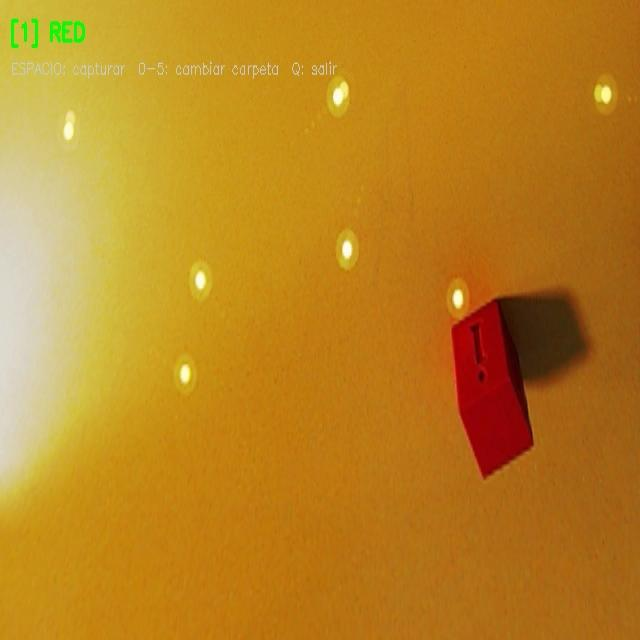red: (452, 300, 532, 476)
